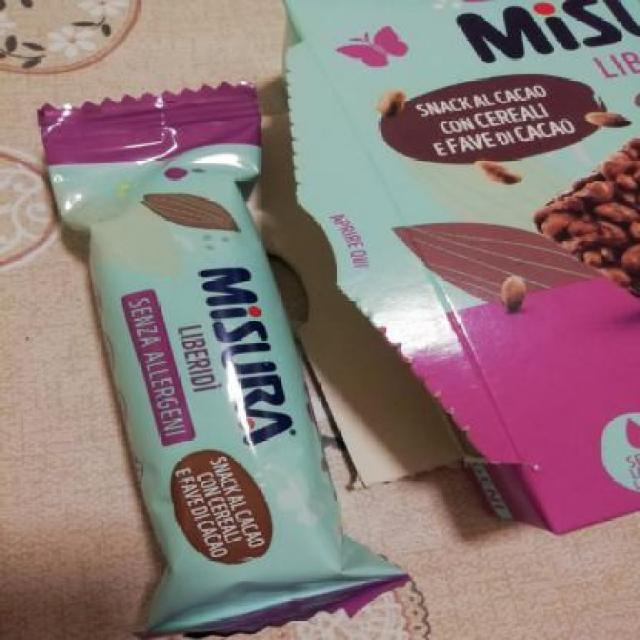Cereal bar: (15, 76, 414, 638)
